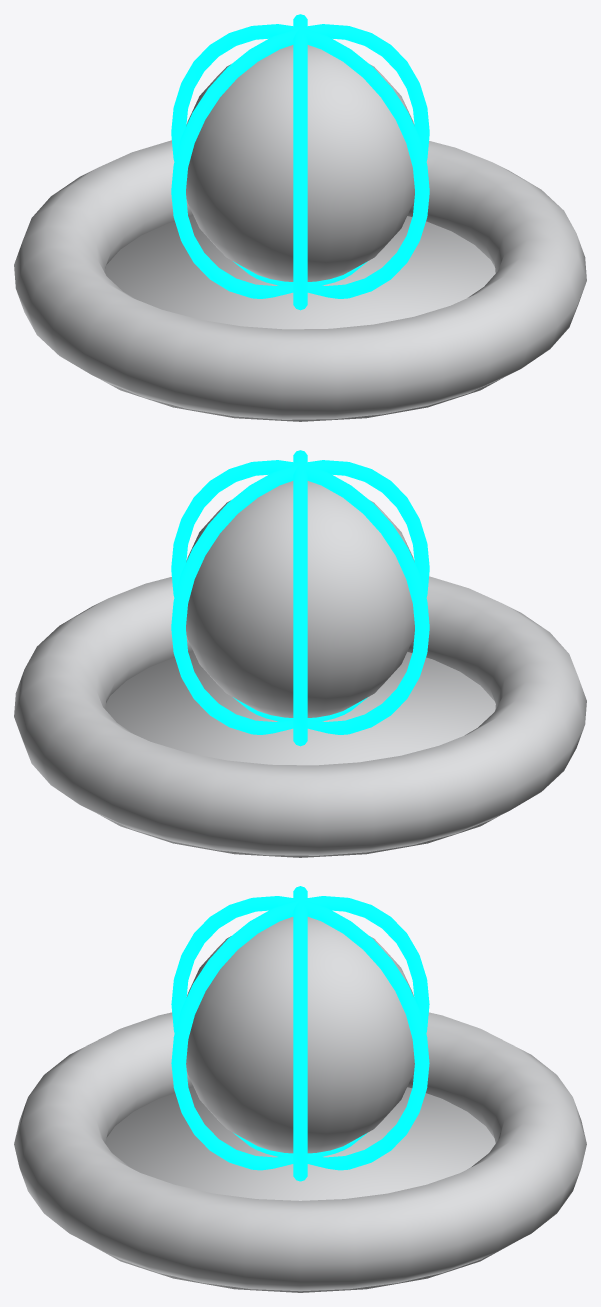
File: azure_purification_plant.glb
3 renders of one model, top to bottom at view 1: azimuth 30°, elevation 25°; view 2: azimuth 150°, elevation 25°; view 3: azimuth 270°, elevation 25°, orthographic.
Parts seen in each view (by area): view 1: AzurePurificationPlant; view 2: AzurePurificationPlant; view 3: AzurePurificationPlant.
Part boxes in pixels (x1=…): AzurePurificationPlant: x1=14, y1=14, x2=586, y2=421; AzurePurificationPlant: x1=14, y1=450, x2=586, y2=857; AzurePurificationPlant: x1=14, y1=886, x2=586, y2=1292.
Bounding box in the file's own units: 4.28 × 2.35 × 4.28.
